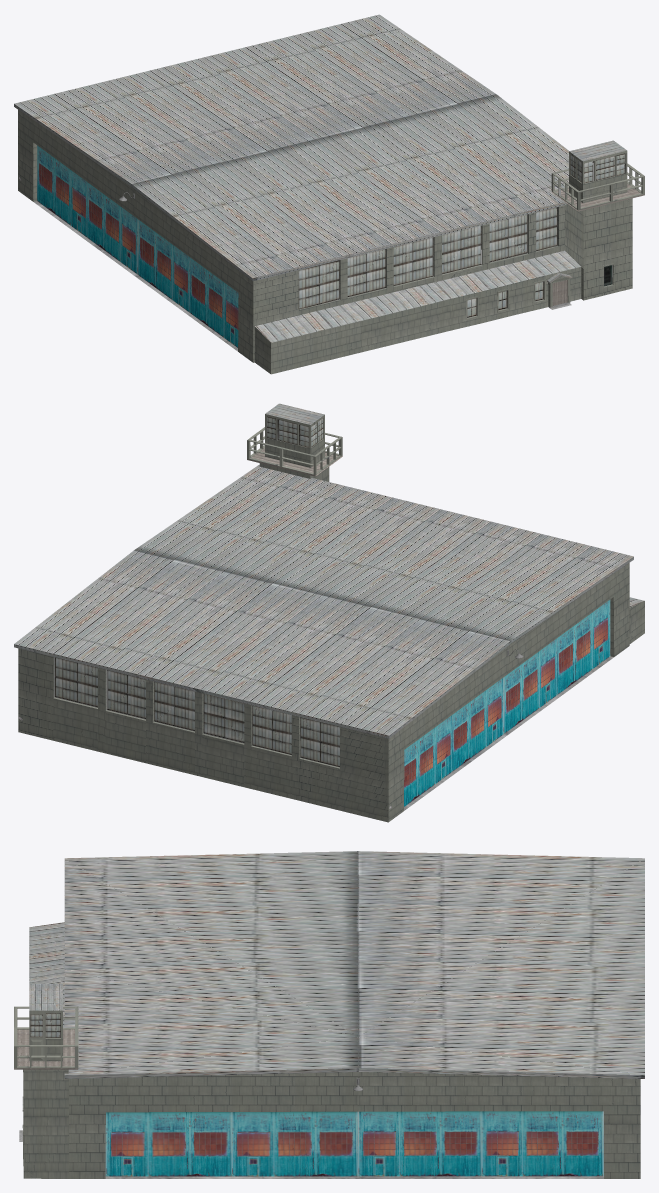
File: Arnprior_Tower_hangar.glb
3 renders of one model, top to bottom at view 1: azimuth 30°, elevation 25°; view 2: azimuth 150°, elevation 25°; view 3: azimuth 270°, elevation 25°, orthographic. The views are drawn at different scales.
Parts seen in each view (by area): view 1: Hangar_Tower; view 2: Hangar_Tower; view 3: Hangar_Tower.
Part boxes in pixels (x1,y1,x2,y2): Hangar_Tower: (14,14,644,374); Hangar_Tower: (14,403,644,822); Hangar_Tower: (14,851,644,1178).
Bounding box in the file's own units: 66.04 × 22.19 × 76.1.
1 material, 1 textured.
